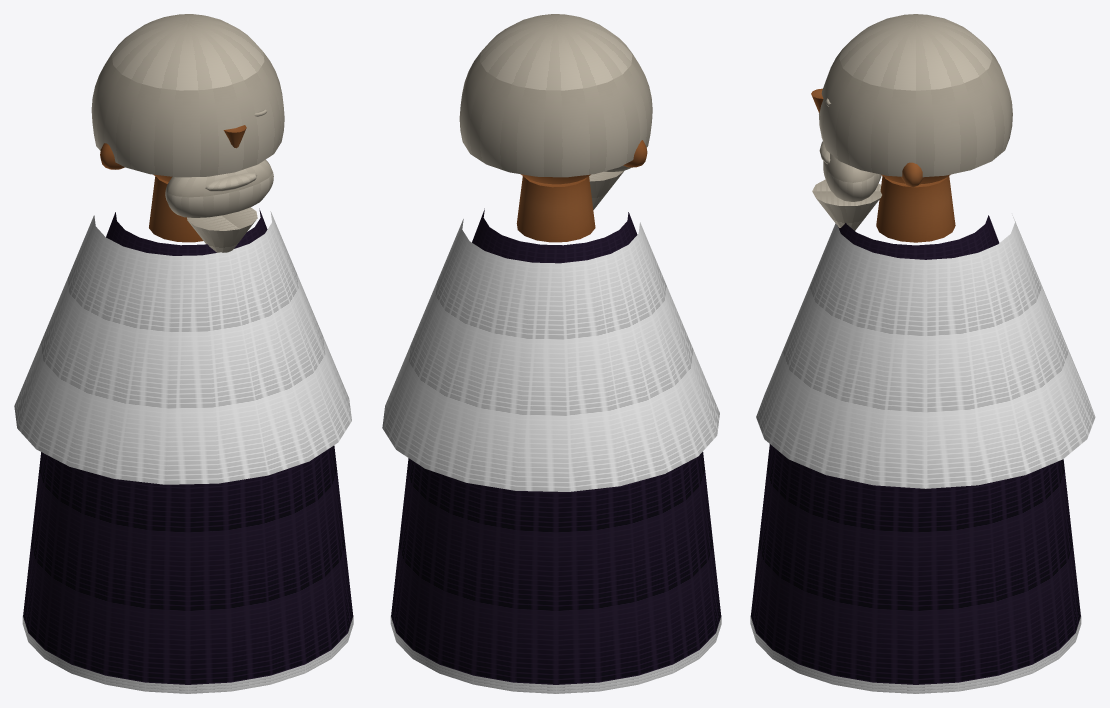
File: joseph_arimathea.glb
3 views of the same model, side by side, from view 1: azimuth 30°, elevation 25°; view 2: azimuth 150°, elevation 25°; view 3: azimuth 270°, elevation 25° (orthographic).
Visible parts, largest first — view 1: Character_joseph_of_arimathea; view 2: Character_joseph_of_arimathea; view 3: Character_joseph_of_arimathea.
Boxes of the visible parts, box(x1,y1,x2,y2) form: Character_joseph_of_arimathea: box(14, 14, 353, 693); Character_joseph_of_arimathea: box(382, 14, 721, 693); Character_joseph_of_arimathea: box(750, 14, 1095, 693).
Size of the model in its own units: 0.921 by 1.8 by 0.9363.
10 materials, 6 textured.
